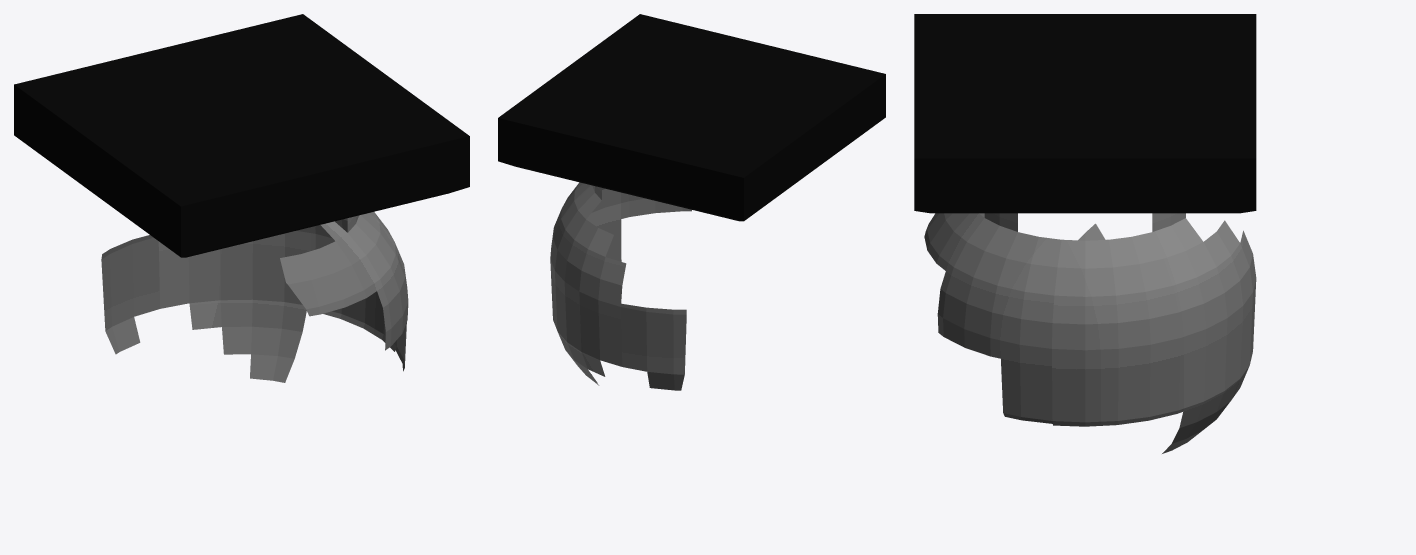
The model's file is distiller.obj.
The picture shows the model from 3 angles, left to right: view 1: azimuth 30°, elevation 25°; view 2: azimuth 150°, elevation 25°; view 3: azimuth 270°, elevation 25°; orthographic projection. The views are drawn at different scales.
Parts seen in each view (by area): view 1: Cube, Sphere; view 2: Cube, Sphere; view 3: Cube, Sphere.
Part boxes in pixels (bbox=[...]): Cube: bbox=[14, 14, 469, 257]; Sphere: bbox=[101, 212, 408, 382]; Cube: bbox=[498, 14, 885, 221]; Sphere: bbox=[550, 182, 691, 390]; Cube: bbox=[914, 14, 1256, 213]; Sphere: bbox=[924, 213, 1256, 453].
Bounding box in the file's own units: 1 × 1.46 × 1.43.
